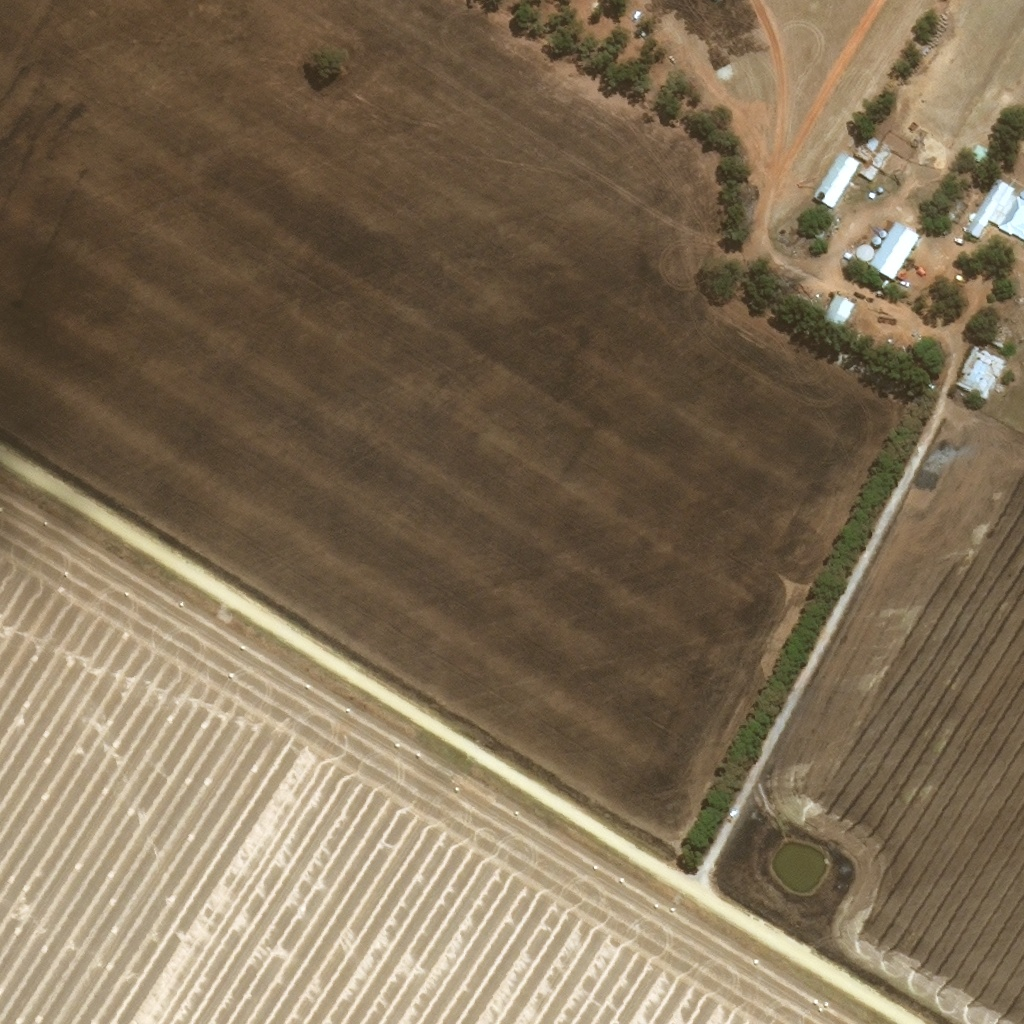0 no-damage: (963, 178, 1023, 239), (952, 343, 1009, 402), (869, 218, 920, 281), (812, 148, 860, 207), (823, 294, 853, 324), (870, 141, 893, 167), (967, 142, 988, 163), (854, 244, 875, 261), (853, 142, 872, 160), (858, 163, 878, 179), (863, 134, 879, 150), (987, 338, 1003, 349), (873, 233, 883, 243), (842, 251, 851, 259), (879, 229, 886, 236), (876, 186, 884, 192)
4 un-classified: (800, 282, 811, 293)
